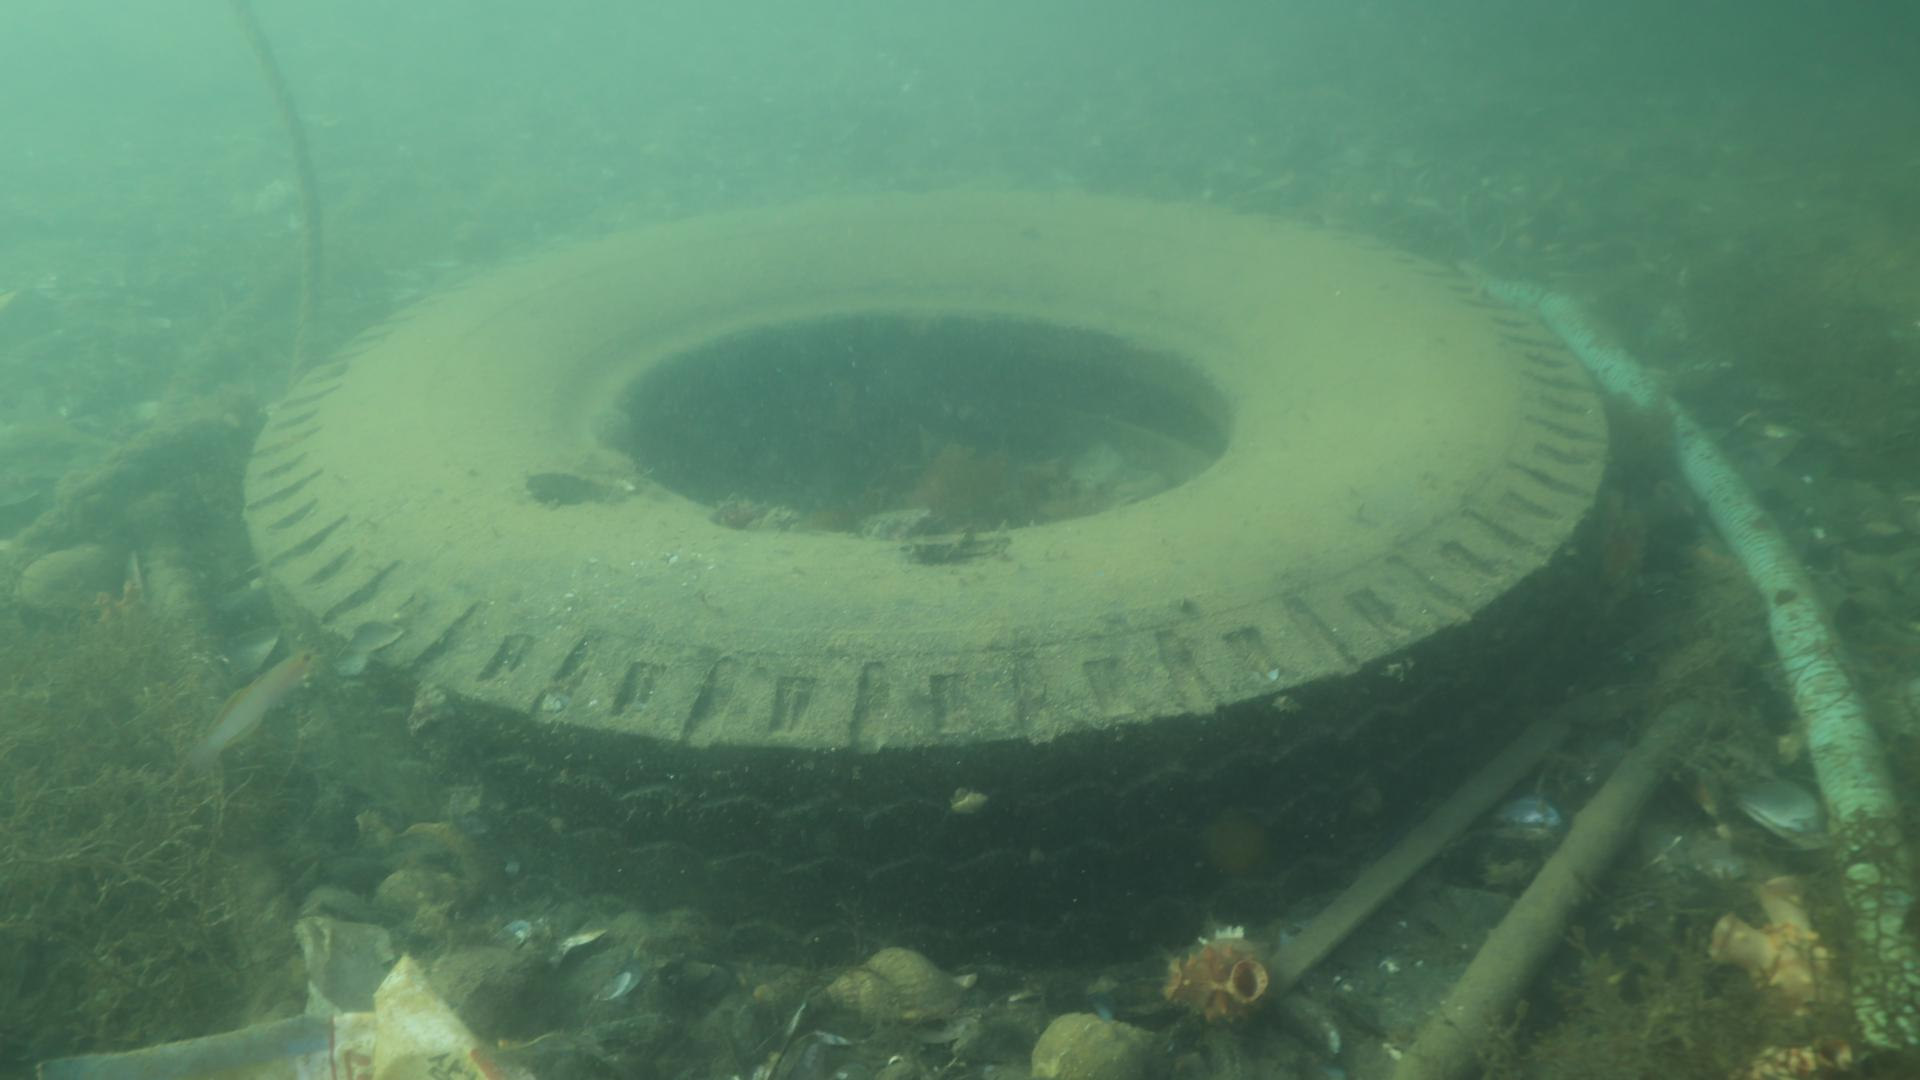bundle of ropes: (0, 258, 305, 717)
rope: (235, 0, 319, 386)
tire: (240, 190, 1613, 971)
